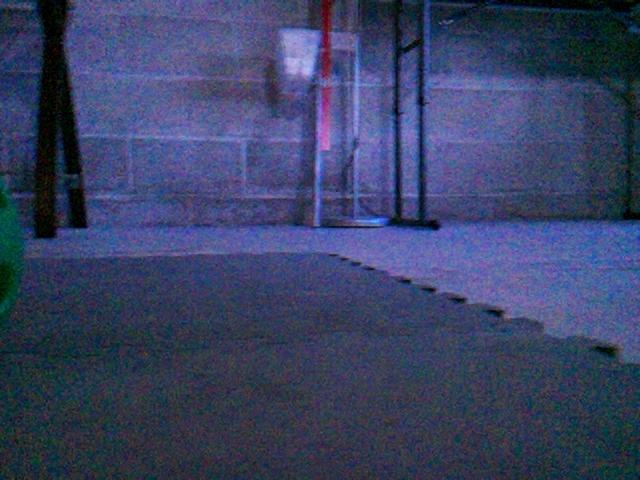Green: (0, 175, 27, 325)
